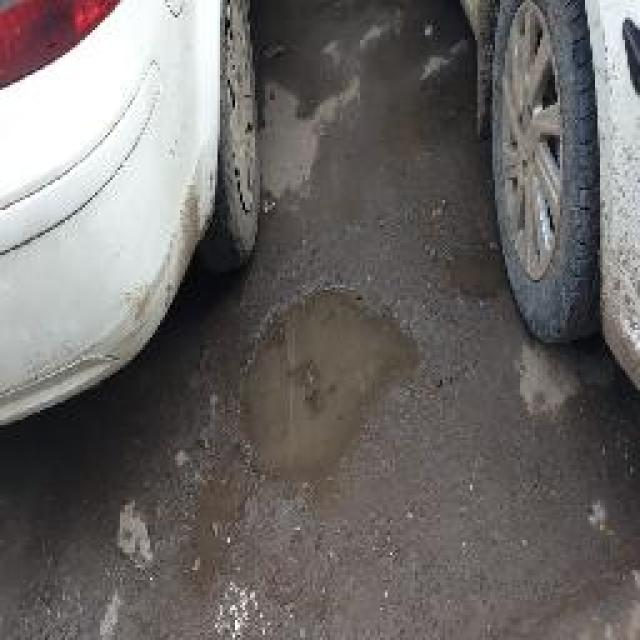stagnation: (223, 283, 424, 499)
